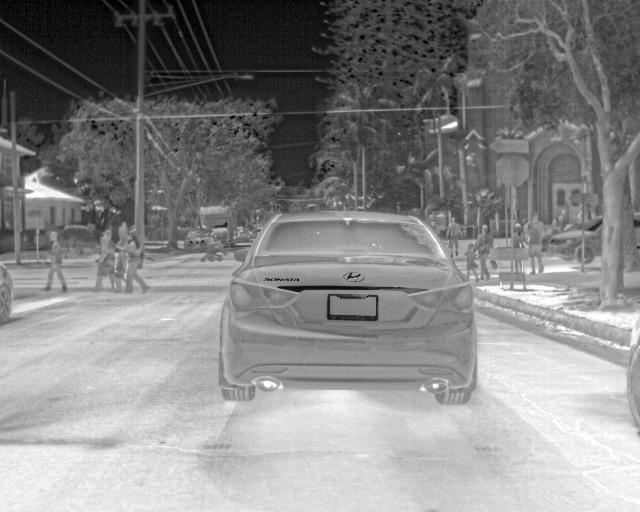bicycle: (214, 205, 480, 409), (549, 214, 602, 265), (623, 313, 639, 429), (181, 224, 213, 255), (0, 262, 17, 320)
empty: (123, 227, 151, 293), (41, 228, 69, 292), (91, 229, 119, 290), (524, 209, 545, 272), (475, 223, 496, 279), (507, 223, 526, 269), (463, 240, 482, 284), (445, 214, 464, 258)
